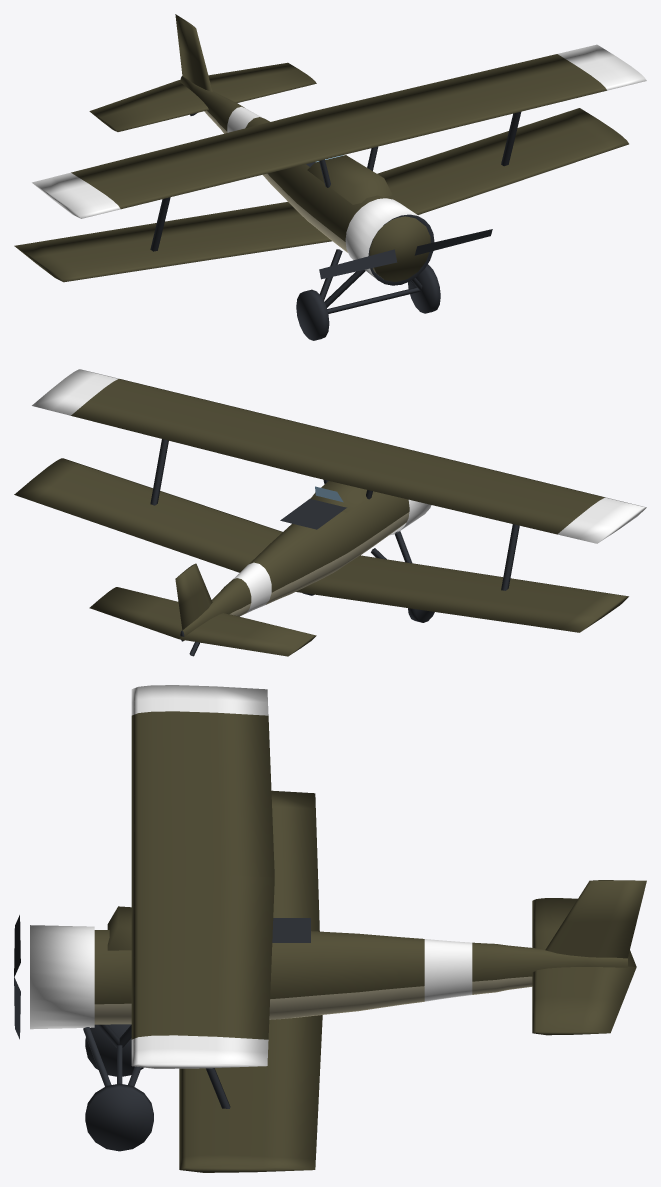
The model's file is sopwith_camel.glb.
The picture shows the model from 3 angles, top to bottom: view 1: azimuth 30°, elevation 25°; view 2: azimuth 150°, elevation 25°; view 3: azimuth 270°, elevation 25°; orthographic projection. The views are drawn at different scales.
Parts seen in each view (by area): view 1: body, prop; view 2: body; view 3: body, prop.
Boxes of the visible parts, <box> form: body: <box>14,14,646,340</box>; prop: <box>319,229,492,279</box>; body: <box>14,369,646,656</box>; body: <box>30,685,646,1172</box>; prop: <box>14,915,20,1039</box>.
Bounding box in the file's own units: 8.53 × 2.52 × 6.06.
